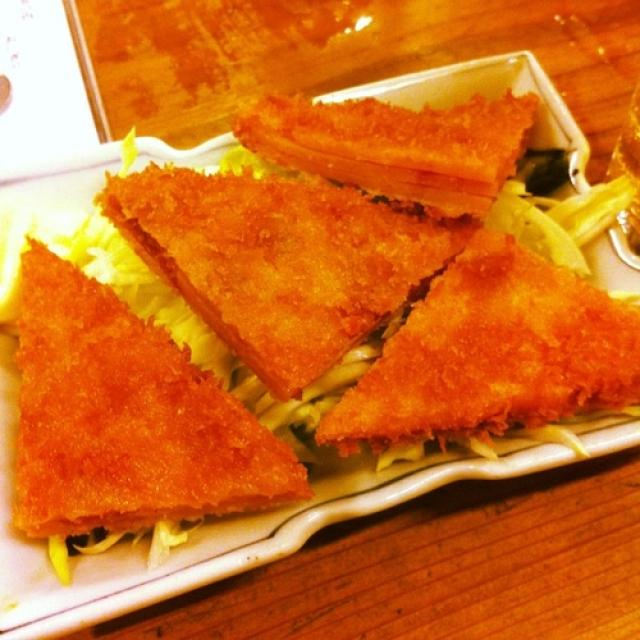炸货点心: (5, 66, 634, 552)
